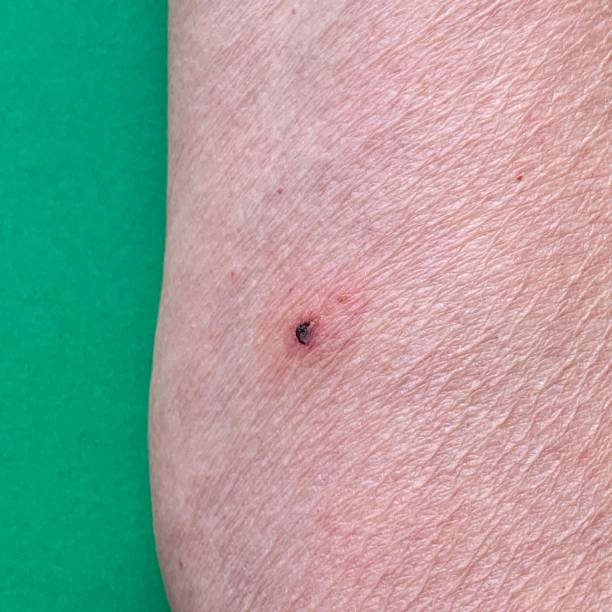Luka Tusuk: (290, 311, 330, 358), (297, 319, 317, 348)
